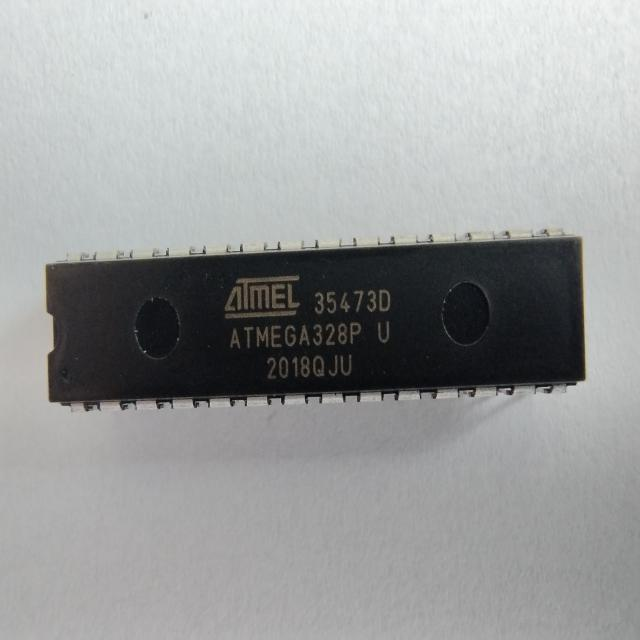atmega: (43, 225, 588, 414)
